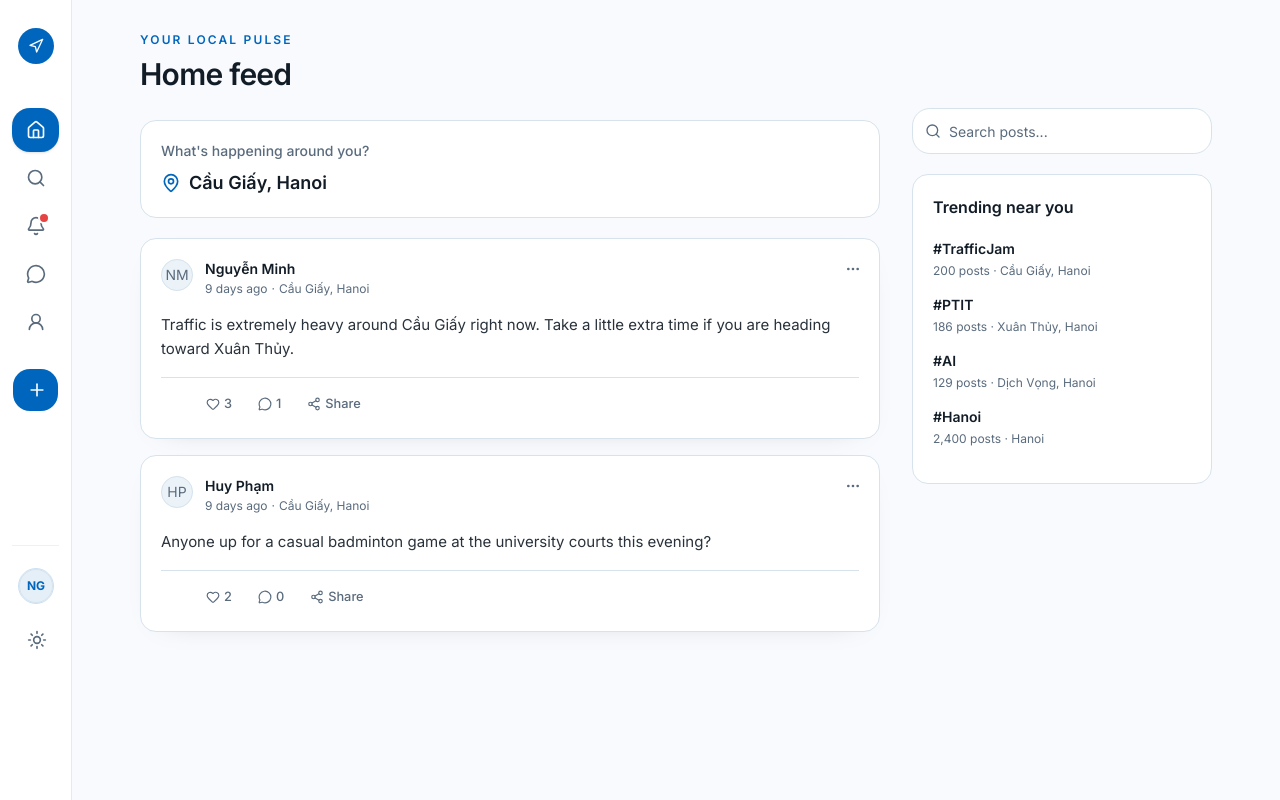
PostCard menu › Save post shows a toast
Click the button named "More options" in the row of "Nguyễn Minh".
click(853, 269)  # box [839,255,867,283]
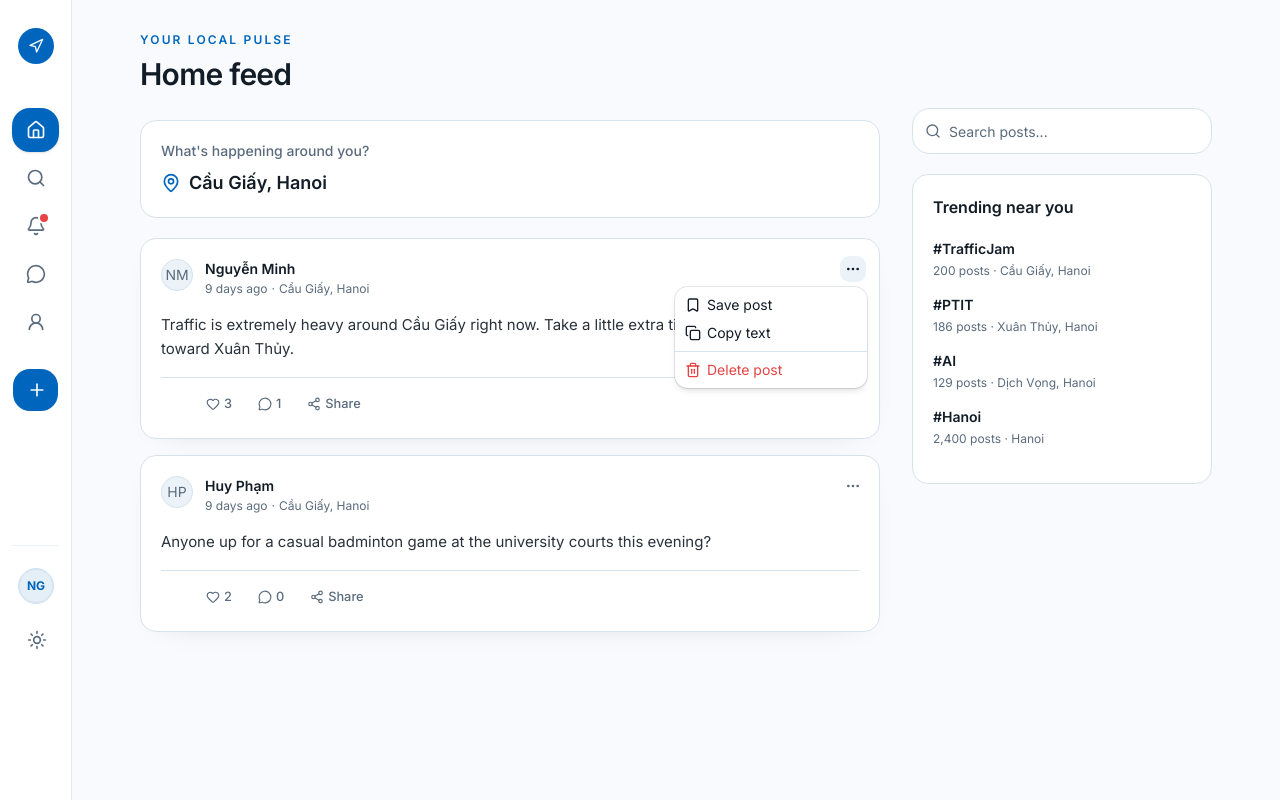
Click the menu item "Save post".
click(729, 304)  # box [685,296,772,313]
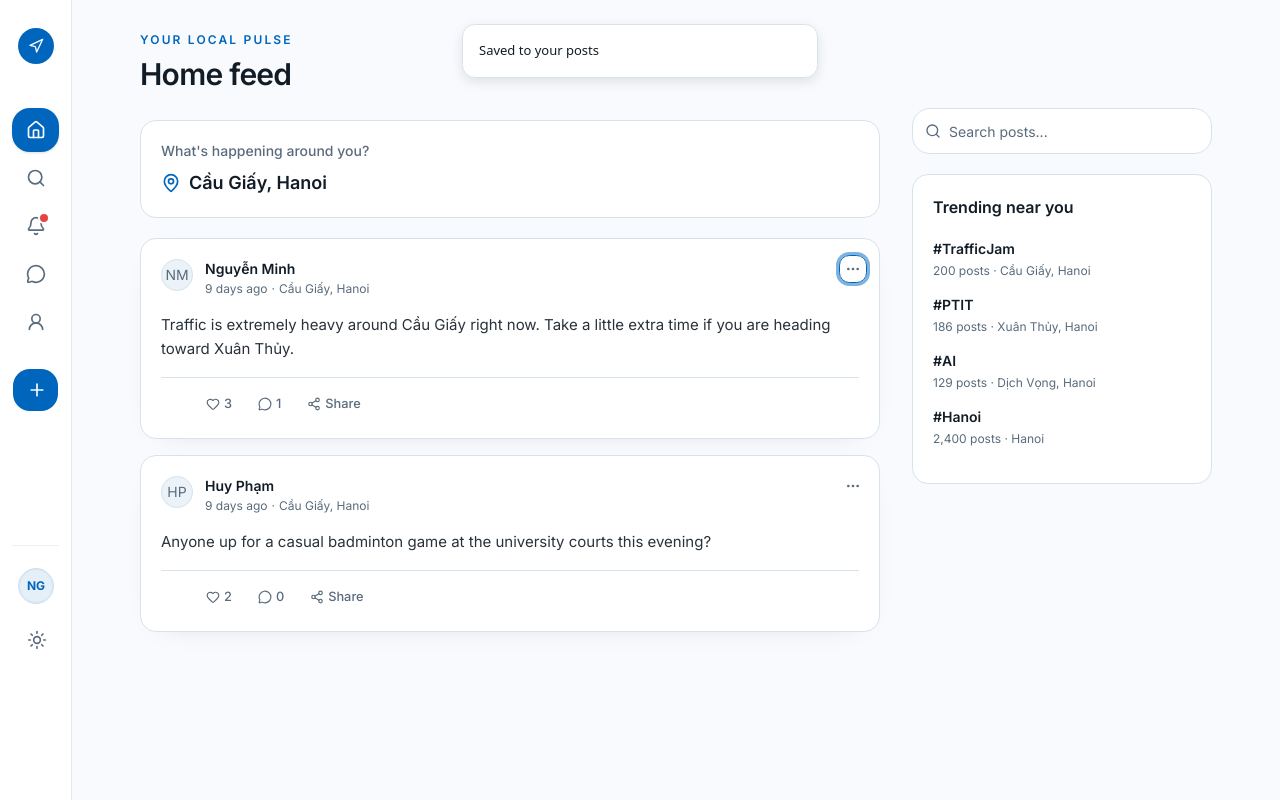
Result: the text "Saved to your posts" is shown at [479,41,599,60]
